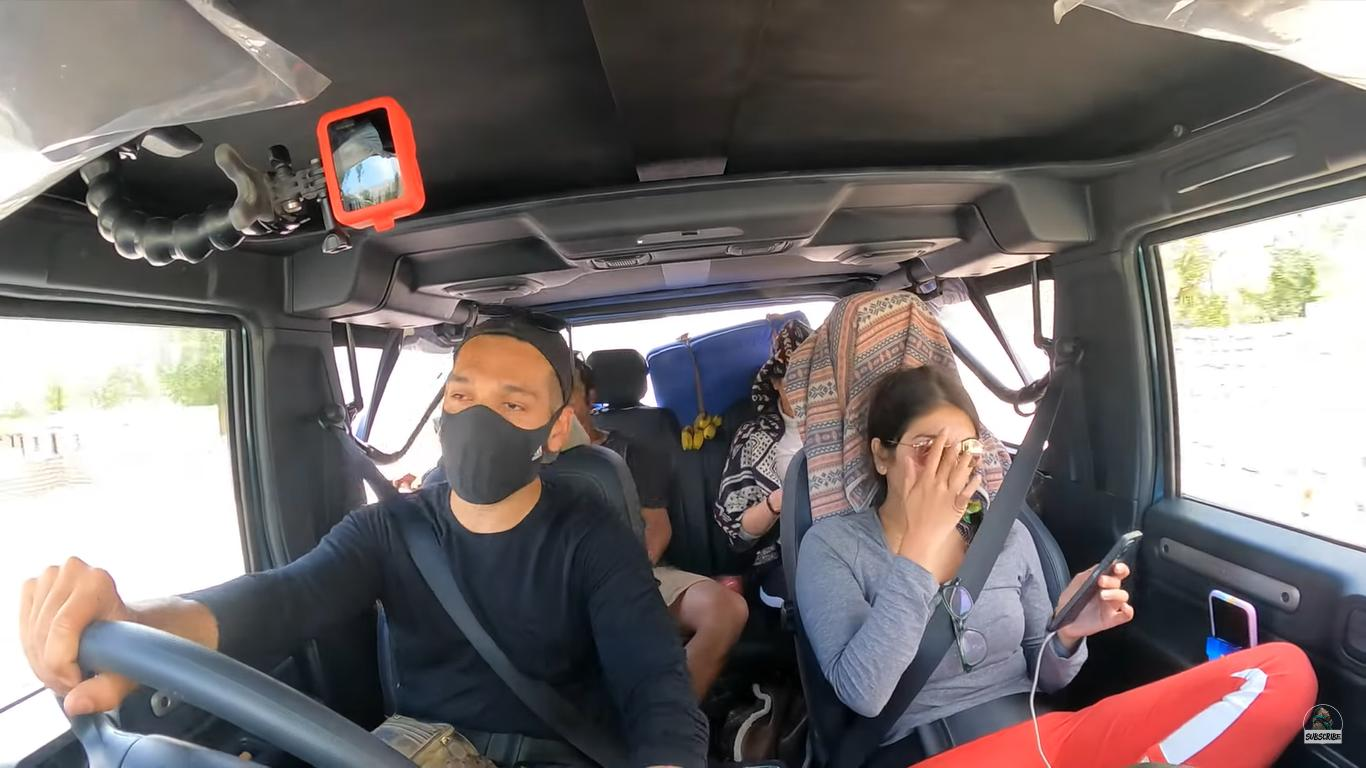seatbelt: (354, 490, 588, 768), (850, 505, 1105, 648)
